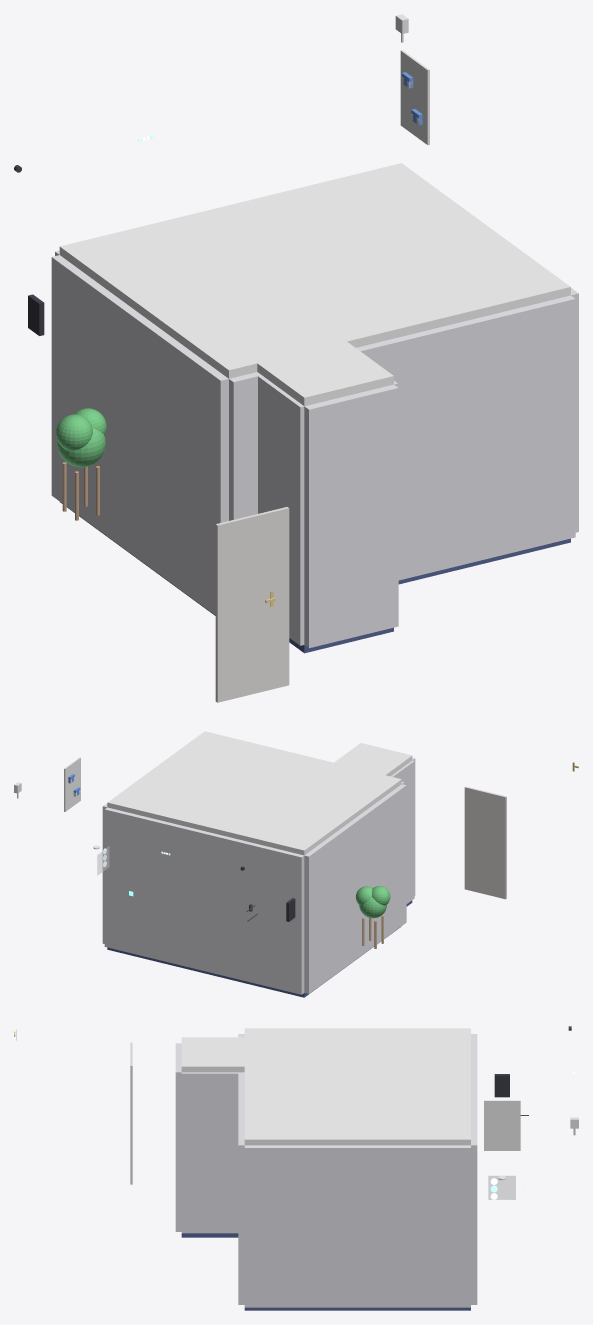
The model's file is room-blockout.glb.
The picture shows the model from 3 angles, top to bottom: view 1: azimuth 30°, elevation 25°; view 2: azimuth 150°, elevation 25°; view 3: azimuth 270°, elevation 25°; orthographic projection. The views are drawn at different scales.
Visible parts, largest first — view 1: ceiling, wall_front_right, wall_left, wall_hallway_back, door_leaf, wall_hallway_left, ceiling_hallway, wall_front_left, pegboard_border, fg_plant_foliage_2, wall_right, fg_plant_foliage_1 (+1 smaller); view 2: wall_rear, ceiling, wall_left, door_leaf, ceiling_hallway, wall_hallway_left, floor, pegboard_border, wall_right, fg_plant_foliage_1; view 3: wall_right, ceiling, wall_hallway_right, ceiling_hallway, wall_rear, pegboard_border, wall_front_right, wall_hallway_back, floor, pc_glass_panel, door_leaf, console_dark_core.
Boxes of the visible parts, x1,y1,x2,y2 form: ceiling: (59, 163, 570, 378); wall_front_right: (356, 295, 575, 580); wall_left: (51, 255, 228, 615); wall_hallway_back: (304, 384, 398, 648); door_leaf: (215, 507, 289, 702); wall_hallway_left: (254, 372, 304, 645); ceiling_hallway: (257, 341, 393, 406); wall_front_left: (229, 372, 259, 520); pegboard_border: (400, 50, 429, 145); fg_plant_foliage_2: (56, 414, 92, 450); wall_right: (571, 288, 578, 532); fg_plant_foliage_1: (57, 428, 105, 467); wall_rear: (104, 807, 304, 994); ceiling: (107, 731, 401, 855); wall_left: (304, 784, 406, 993); door_leaf: (464, 786, 506, 899); ceiling_hallway: (334, 743, 412, 776); wall_hallway_left: (391, 760, 414, 903); floor: (107, 926, 401, 997); pegboard_border: (64, 757, 80, 811); wall_right: (102, 803, 107, 943); fg_plant_foliage_1: (359, 897, 386, 918); wall_right: (244, 1145, 470, 1307); ceiling: (244, 1028, 470, 1145); wall_hallway_right: (181, 1072, 238, 1233); ceiling_hallway: (181, 1037, 244, 1072); wall_rear: (471, 1034, 477, 1304); pegboard_border: (484, 1100, 520, 1150); wall_front_right: (238, 1072, 244, 1304); wall_hallway_back: (175, 1043, 181, 1231); floor: (244, 1307, 470, 1310); pc_glass_panel: (488, 1175, 515, 1199); door_leaf: (130, 1042, 132, 1184); console_dark_core: (494, 1074, 509, 1097).
Bounding box in the file's own units: 6.86 × 3.9 × 8.99.
